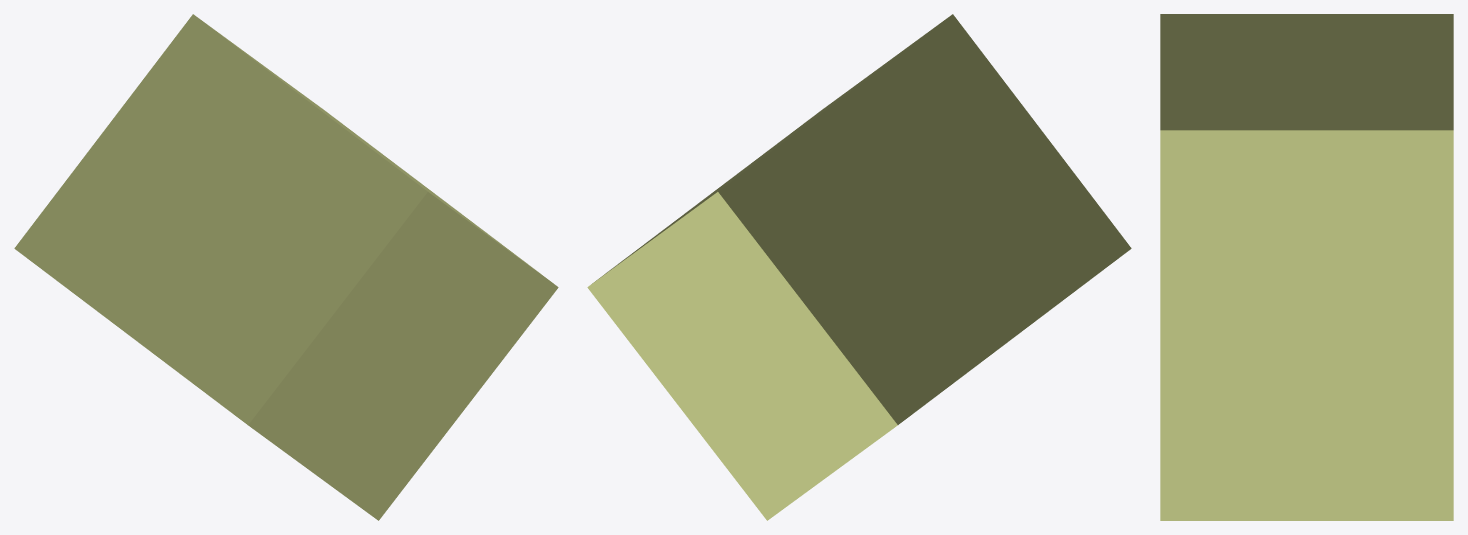
3 renders of one model, left to right at view 1: azimuth 30°, elevation 25°; view 2: azimuth 150°, elevation 25°; view 3: azimuth 270°, elevation 25°, orthographic. The views are drawn at different scales.
Visible parts, largest first — view 1: 0_1_1_3_3_1_0_3_2_2_0; view 2: 0_1_1_3_3_1_0_3_2_2_0; view 3: 0_1_1_3_3_1_0_3_2_2_0.
Part boxes in pixels (bbox=[...]): 0_1_1_3_3_1_0_3_2_2_0: bbox=[14, 14, 558, 520]; 0_1_1_3_3_1_0_3_2_2_0: bbox=[587, 14, 1131, 520]; 0_1_1_3_3_1_0_3_2_2_0: bbox=[1160, 14, 1453, 520].
Bounding box in the file's own units: 10.96 × 10.75 × 6.
